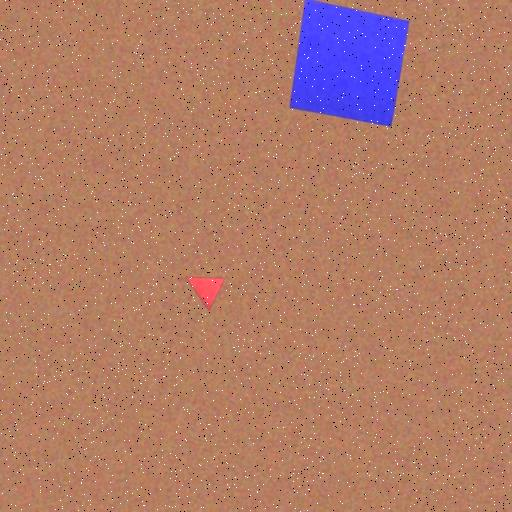BLUE_SQUARE: (289, 0, 410, 127)
